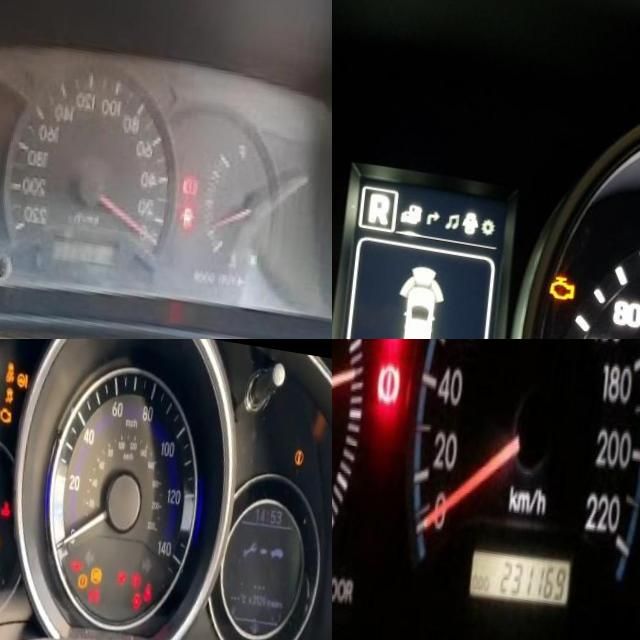Engine cooling system: (5, 493, 16, 510)
